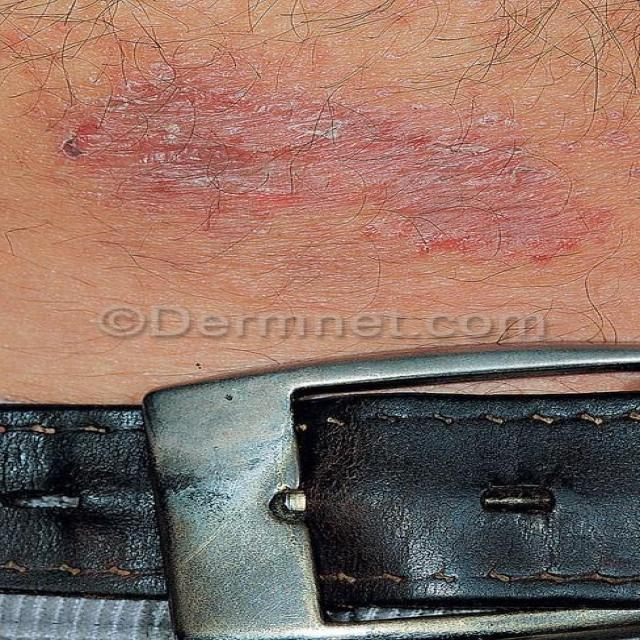Eczema: (62, 62, 627, 280)
